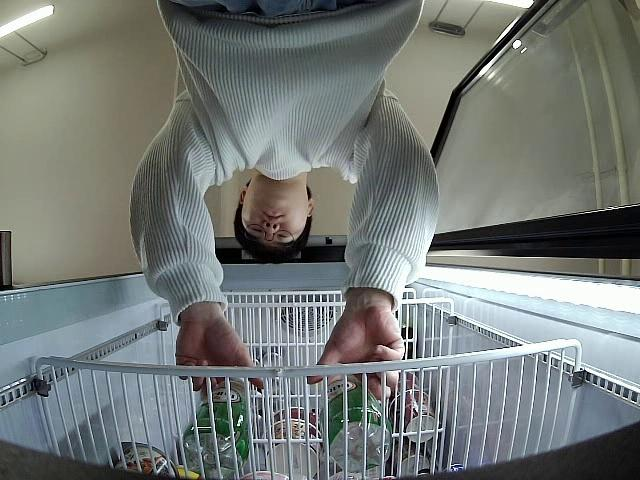00_hand: (309, 307, 403, 399), (175, 319, 263, 391)
19_17cha: (315, 373, 393, 474), (186, 371, 255, 477)
